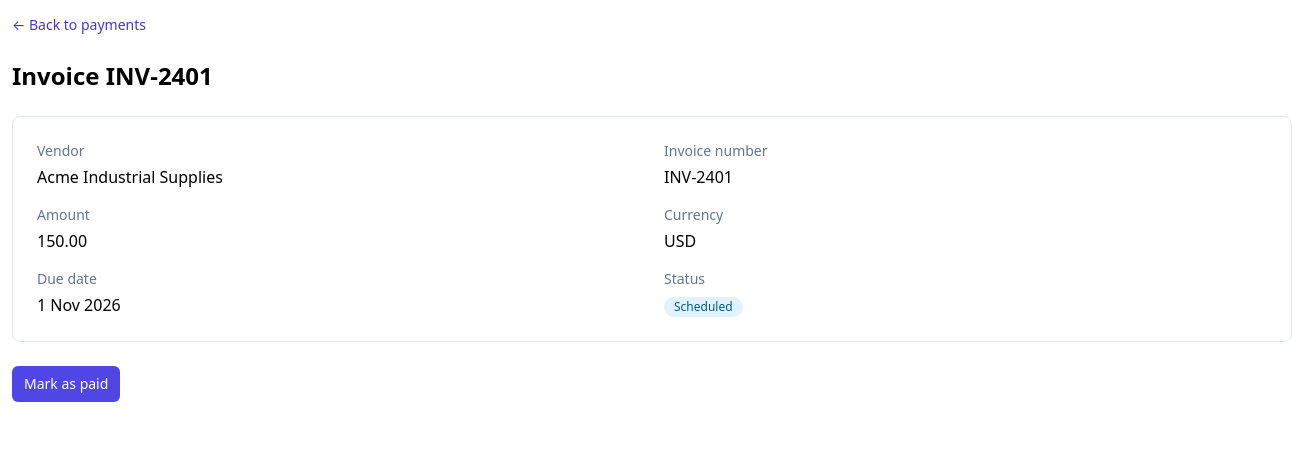
Test case: PaymentDetailPage › shows the server message when marking as paid fails
What coordinates should you click on to do the following:
click the button "Mark as paid"
I would click on:
 (66, 384)
Its box is 12,366 -> 120,402.
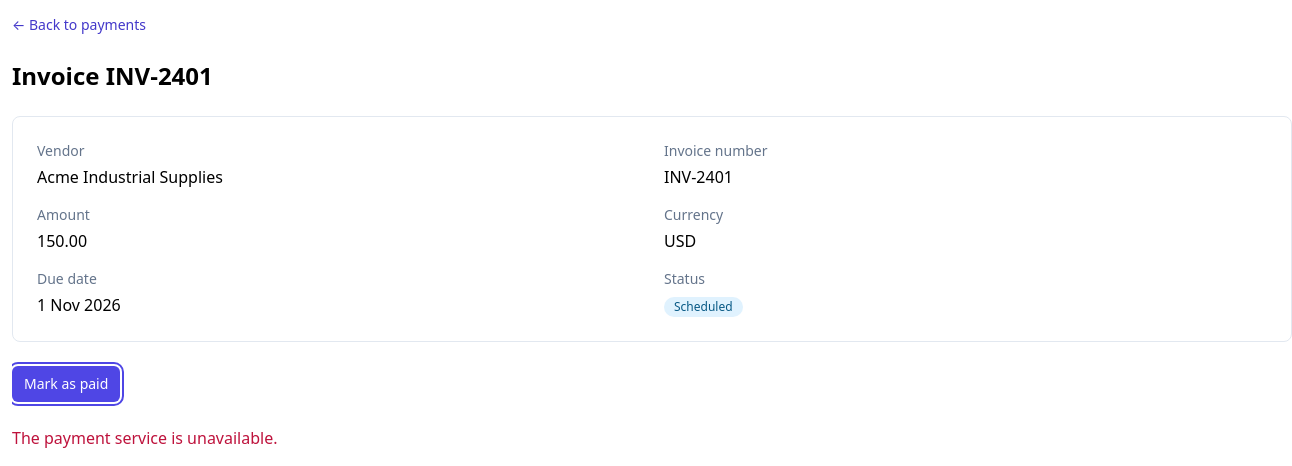
Check: the message reads "The payment service is unavailable.", box 12,427 -> 278,449
